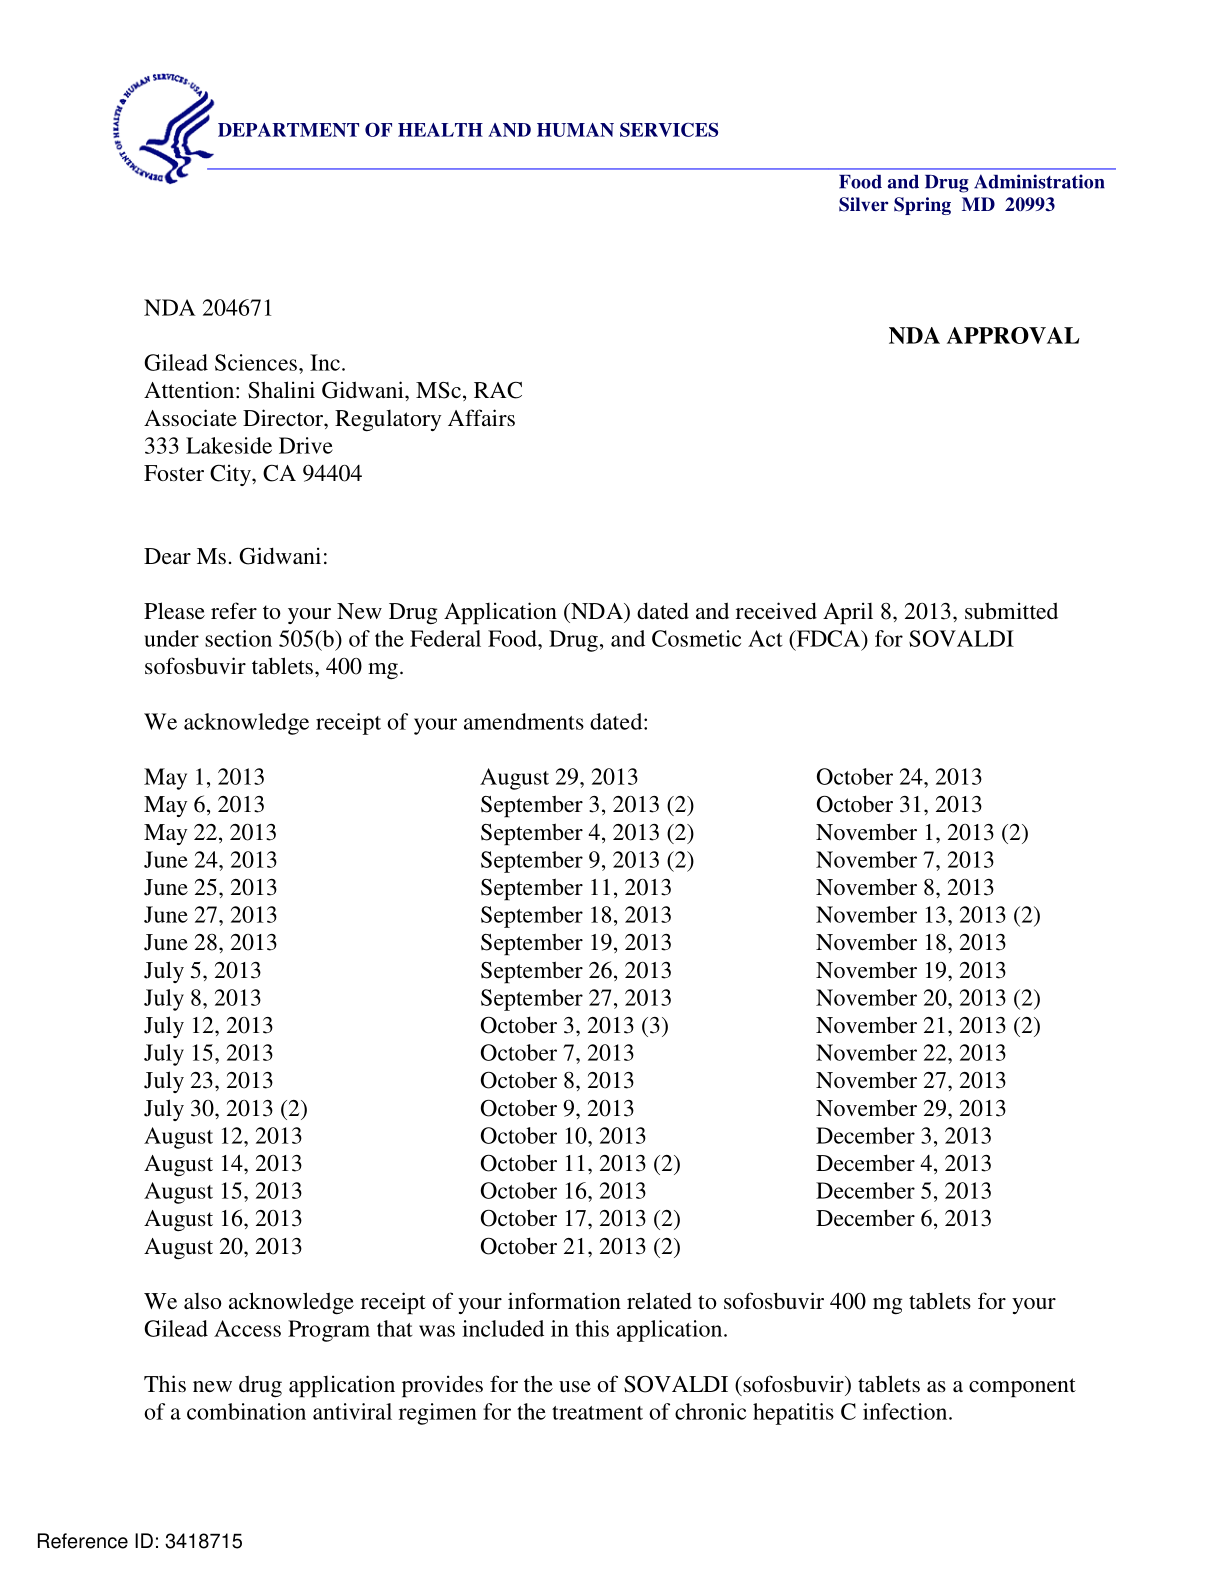nolines: (141, 762, 1044, 1260)
